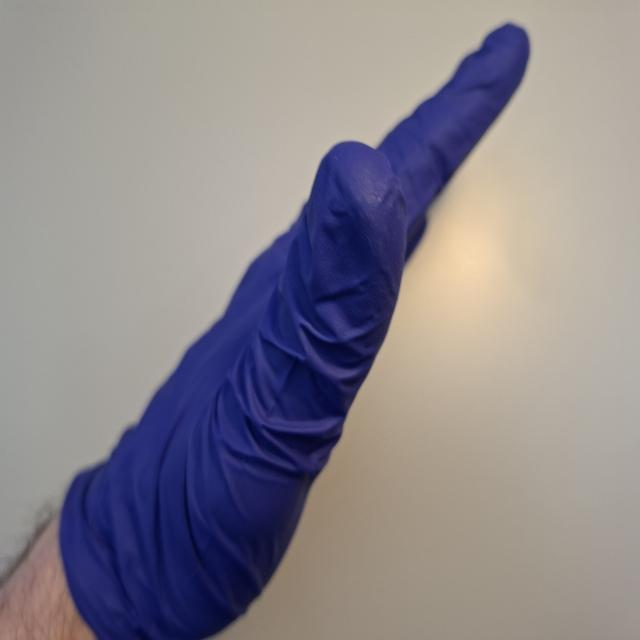glove_on: (56, 18, 533, 638)
